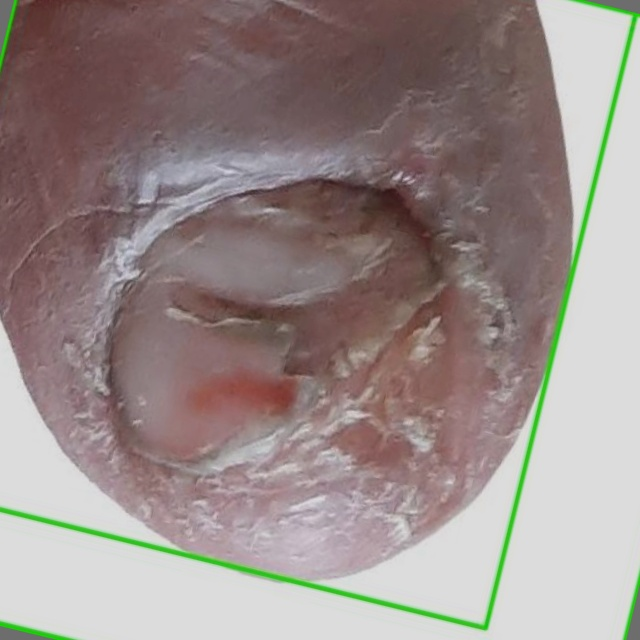Contact Dermatitis: (0, 0, 639, 639), (0, 0, 636, 629)
